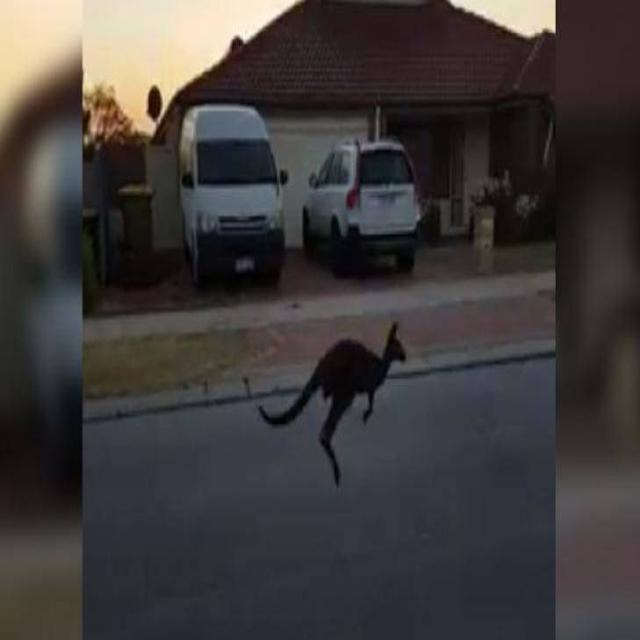kangaroo: (300, 321, 408, 488)
